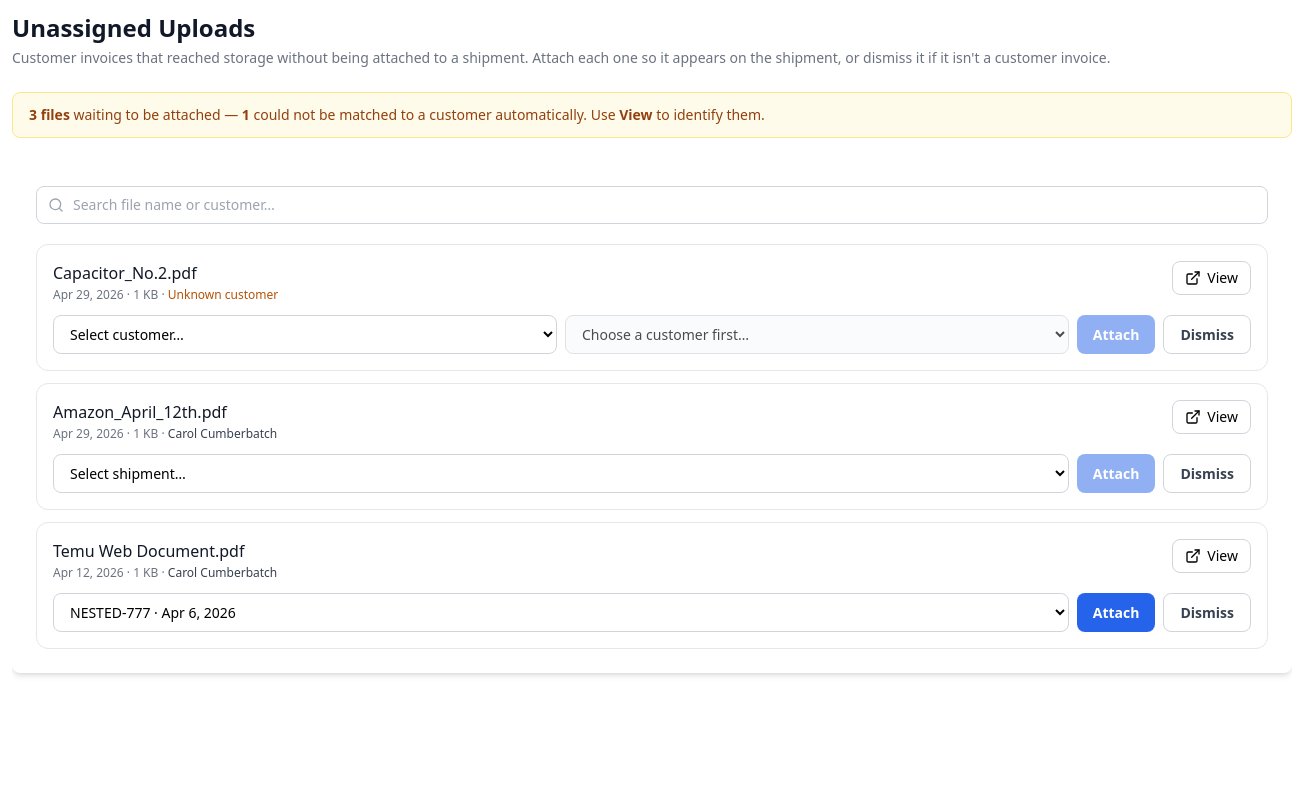
Test case: AdminUnassignedUploads › dismisses a file and removes it from the list
Check: the text "Capacitor_No.2.pdf" is shown, box [53,262,197,284]
Click the 1st button "Dismiss" at (1207,334), box [1164,315,1251,354]
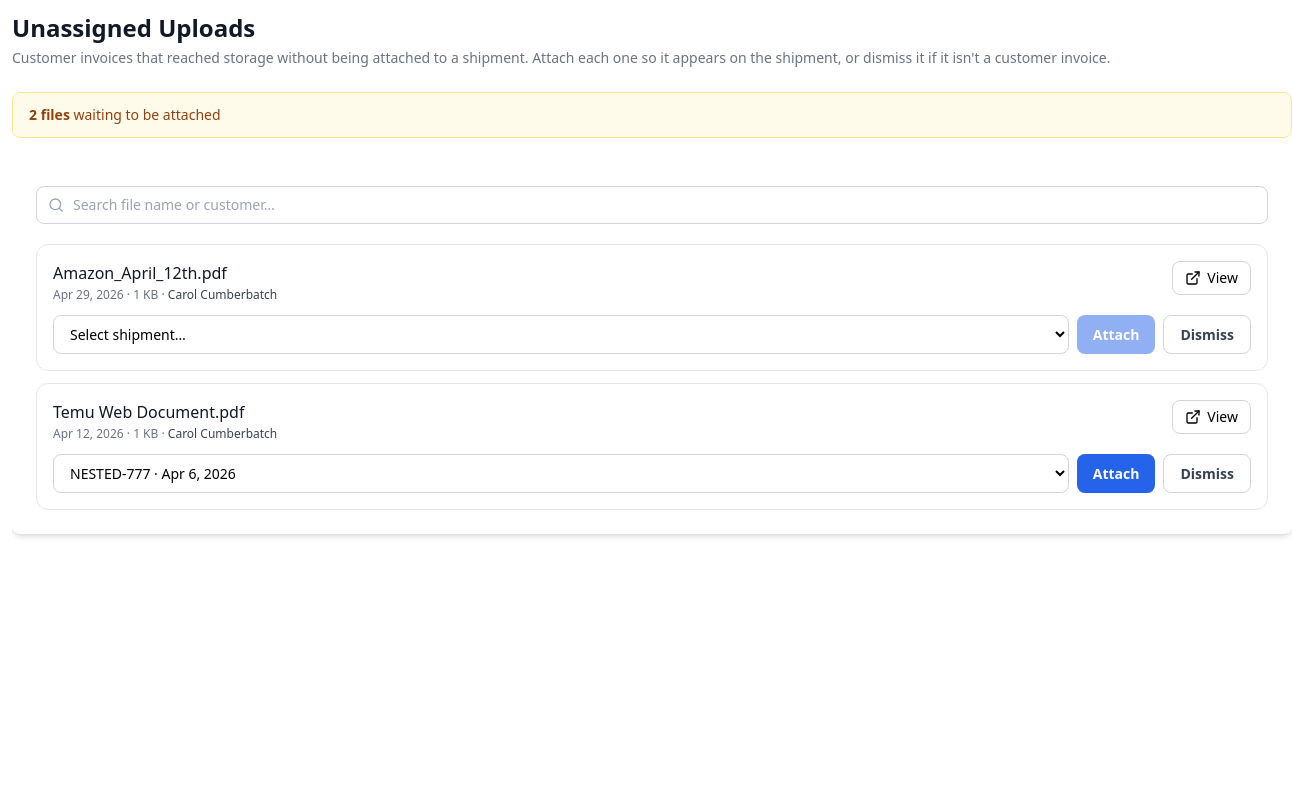
Check: the text "Capacitor_No.2.pdf" is gone
